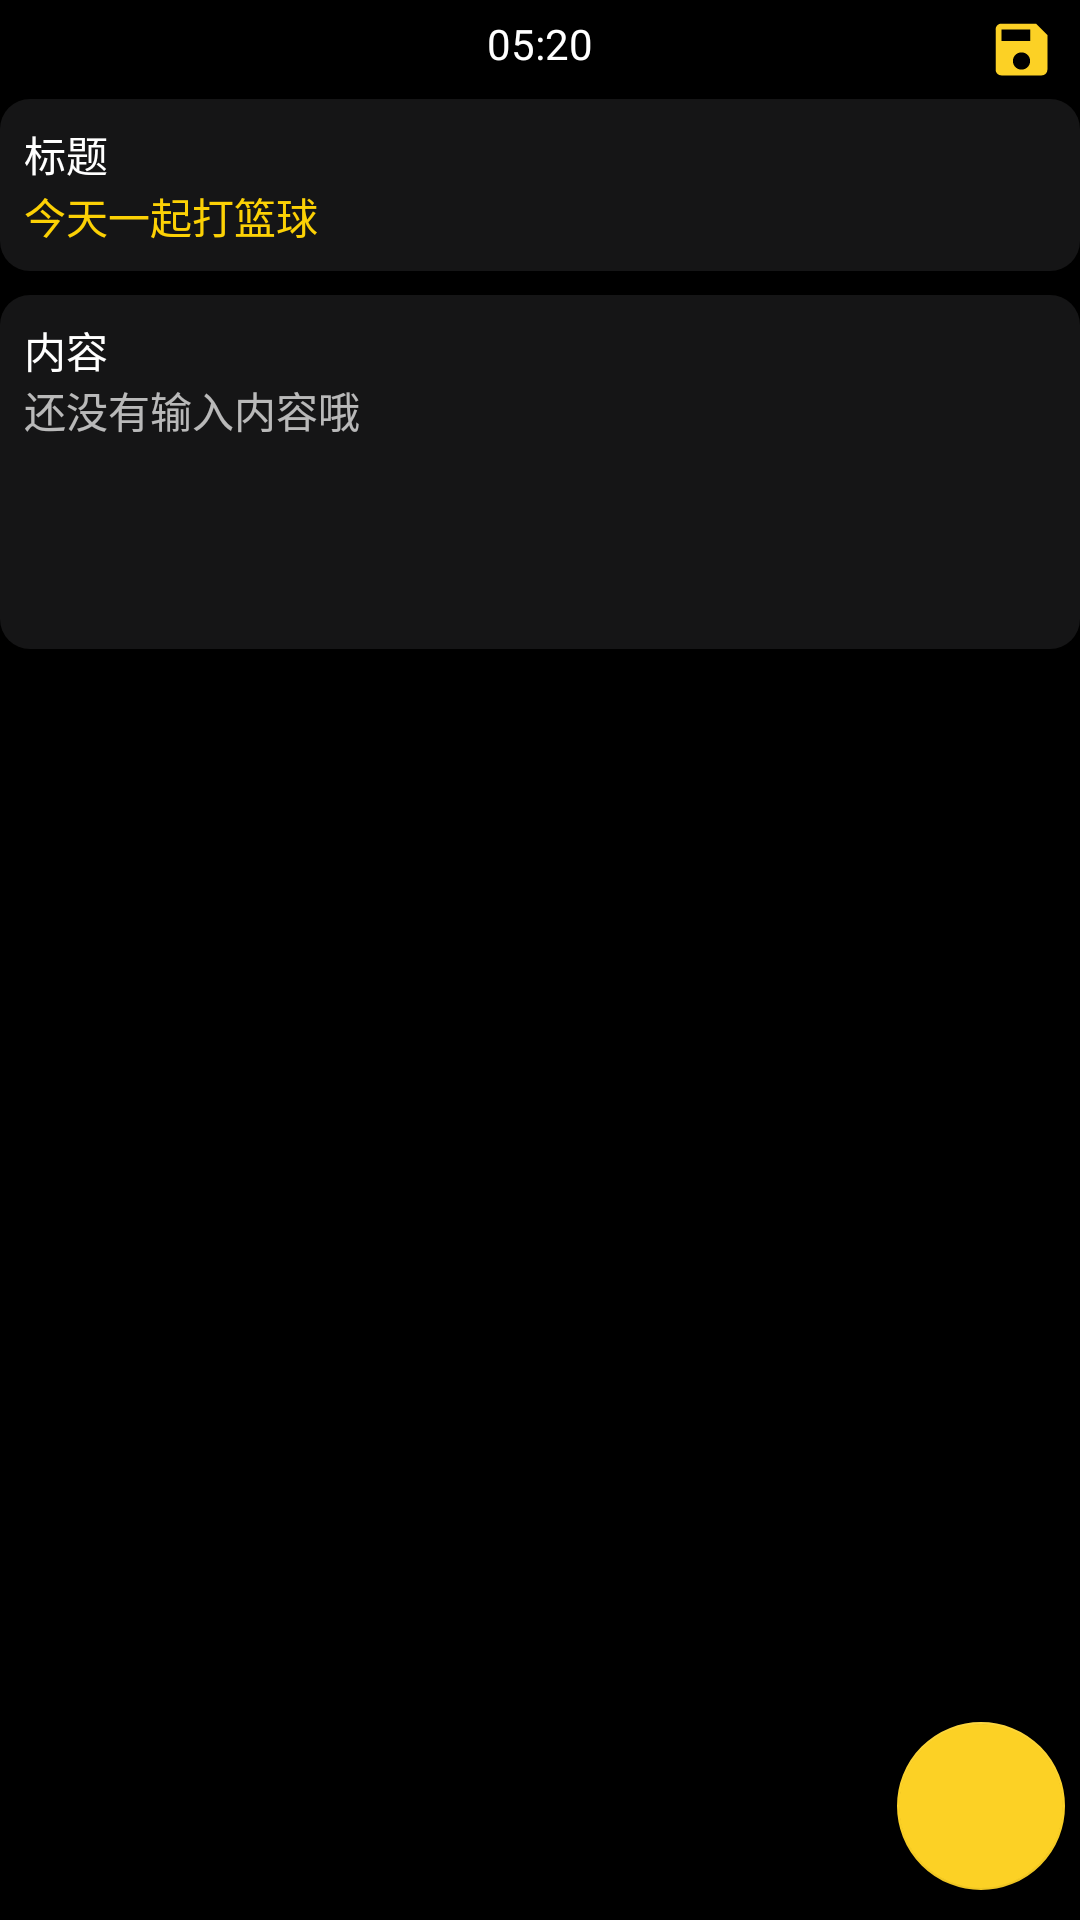

Named icons in this screenshot (1080×1920) and their bounding boxes, box(x1, y1, x2, y2):
save: box(995, 23, 1048, 76)
